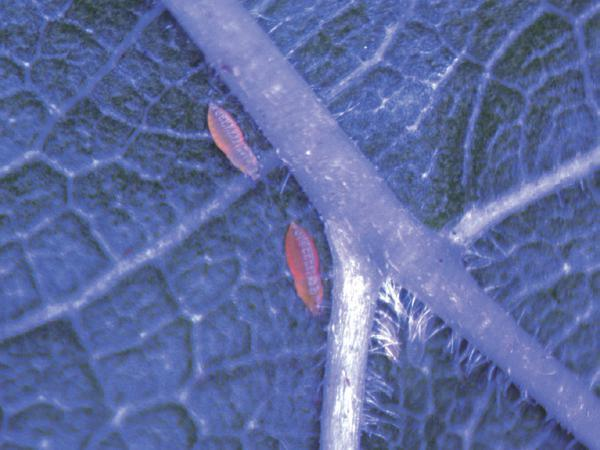tiny_pests: (194, 79, 276, 192), (263, 213, 334, 325)
